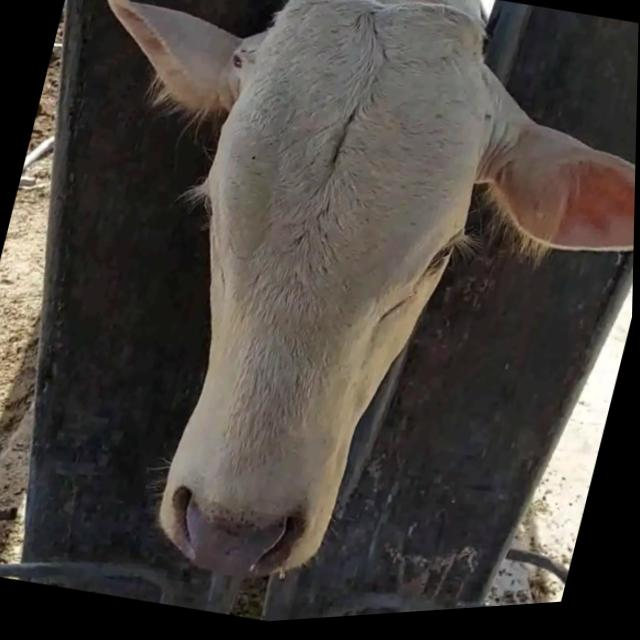cowFace: (112, 0, 521, 622)
